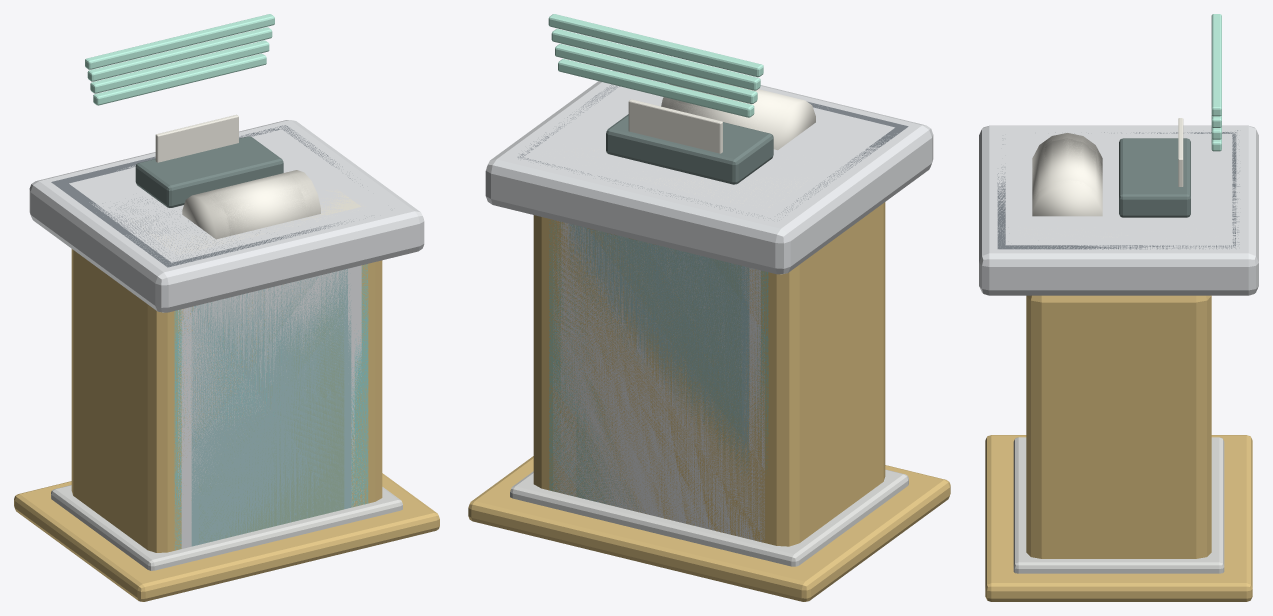
File: Gear05.fbx
The picture shows the model from 3 angles, left to right: view 1: azimuth 30°, elevation 25°; view 2: azimuth 150°, elevation 25°; view 3: azimuth 270°, elevation 25°; orthographic projection. The views are drawn at different scales.
Visible parts, largest first — view 1: Gear05_V10_Gold, Gear05_V3_Blue, Gear05_V10_Platinum, Gear05_V6_Platinum, Gear05_V1_Sage, Gear05_V5_Platinum, Gear05_V4_Platinum, Gear05_V9_Gold, Gear05_V8_Aqua, Gear05_V2_Blue, Gear05_V10_Linen, Gear05_V8_Graphite (+24 smaller); view 2: Gear05_V10_Gold, Gear05_V9_Gold, Gear05_V7_Platinum, Gear05_V10_Platinum, Gear05_V3_Blue, Gear05_V5_Platinum, Gear05_V6_Platinum, Gear05_V1_Sage, Gear05_V2_Blue, Gear05_V8_Aqua, Gear05_V10_Chrome, Gear05_V10_Ink (+24 smaller); view 3: Gear05_V10_Gold, Gear05_V10_Platinum, Gear05_V5_Platinum, Gear05_V6_Platinum, Gear05_V9_Gold, Gear05_V10_Chrome, Gear05_V10_Ink, Gear05_V10_Linen, Gear05_V6_Ink, Gear05_V2_Linen, Gear05_V6_Chrome, Gear05_V7_Chrome (+13 smaller).
Part boxes in pixels (<box>): Gear05_V10_Gold: <box>14,249,439,601</box>; Gear05_V3_Blue: <box>191,281,351,546</box>; Gear05_V10_Platinum: <box>29,120,424,312</box>; Gear05_V6_Platinum: <box>89,129,390,548</box>; Gear05_V1_Sage: <box>198,286,344,544</box>; Gear05_V5_Platinum: <box>69,133,384,548</box>; Gear05_V4_Platinum: <box>188,268,354,506</box>; Gear05_V9_Gold: <box>28,264,433,597</box>; Gear05_V8_Aqua: <box>174,264,368,550</box>; Gear05_V2_Blue: <box>195,269,347,544</box>; Gear05_V10_Linen: <box>155,114,320,239</box>; Gear05_V8_Graphite: <box>51,125,365,267</box>; Gear05_V10_Gold: <box>468,202,950,601</box>; Gear05_V9_Gold: <box>475,218,941,599</box>; Gear05_V7_Platinum: <box>553,221,764,542</box>; Gear05_V10_Platinum: <box>485,60,933,274</box>; Gear05_V3_Blue: <box>568,224,749,488</box>; Gear05_V5_Platinum: <box>561,82,888,503</box>; Gear05_V6_Platinum: <box>524,76,894,498</box>; Gear05_V1_Sage: <box>576,230,741,511</box>; Gear05_V2_Blue: <box>594,233,745,474</box>; Gear05_V8_Aqua: <box>549,220,768,504</box>; Gear05_V10_Chrome: <box>510,471,908,566</box>; Gear05_V10_Ink: <box>606,114,773,184</box>; Gear05_V10_Gold: <box>985,295,1252,601</box>; Gear05_V10_Platinum: <box>979,125,1258,295</box>; Gear05_V5_Platinum: <box>1010,136,1227,243</box>; Gear05_V6_Platinum: <box>1005,134,1232,245</box>; Gear05_V9_Gold: <box>985,437,1252,585</box>; Gear05_V10_Chrome: <box>1013,437,1224,573</box>; Gear05_V10_Ink: <box>1119,138,1190,217</box>; Gear05_V10_Linen: <box>1032,118,1183,216</box>; Gear05_V6_Ink: <box>1119,142,1187,193</box>; Gear05_V2_Linen: <box>1032,123,1183,203</box>; Gear05_V6_Chrome: <box>1014,444,1224,558</box>; Gear05_V7_Chrome: <box>1014,442,1224,560</box>.
Bounding box in the file's own units: 70.4 × 100 × 54.4.
